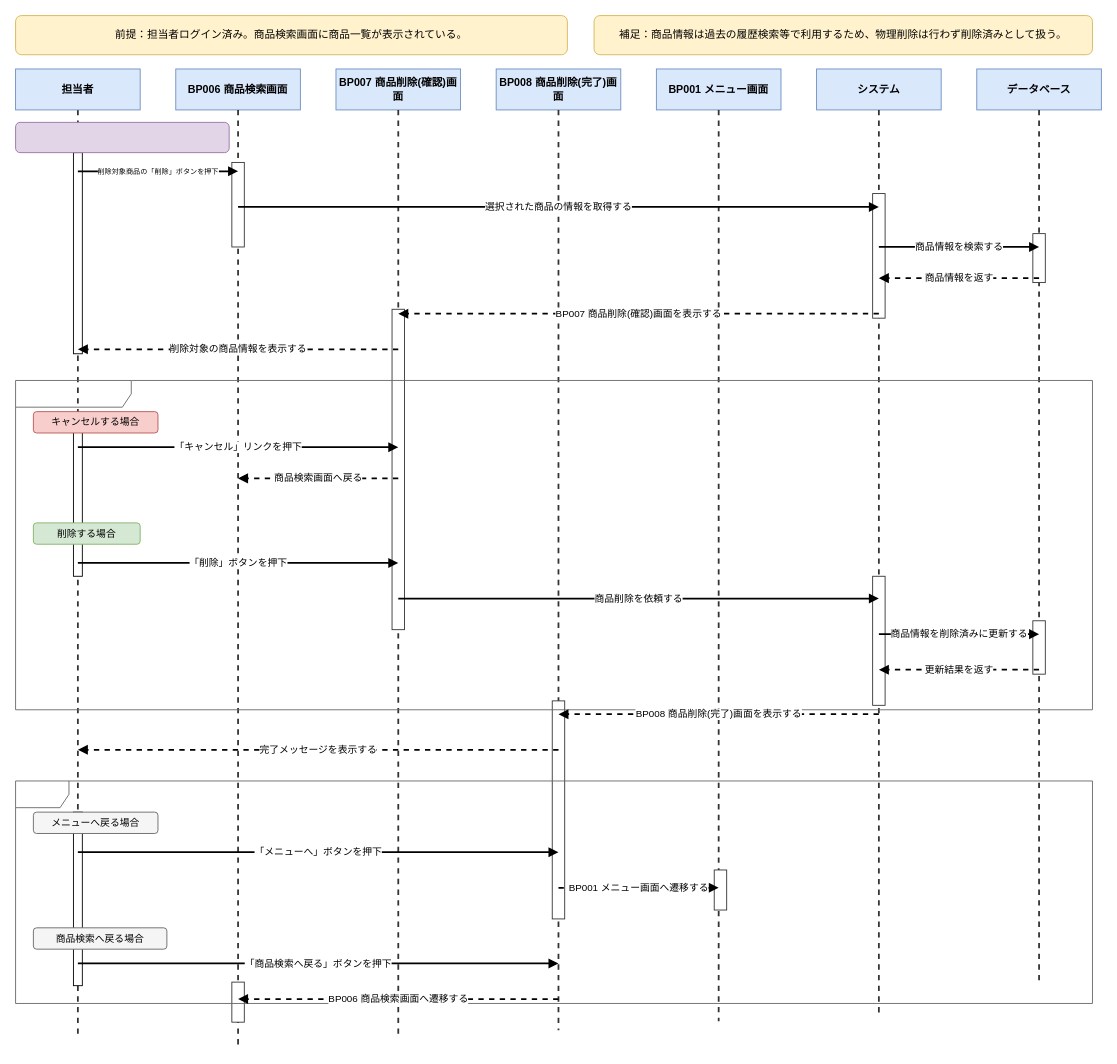
Image size: 1117x1064. Some labels were removed from this diagram. Each missing label, with the box of its shape:
alt 完了画面での操作: (15, 780, 1092, 1003)
alt 確認画面での操作: (15, 380, 1092, 710)
UC013 商品削除: (15, 121, 229, 153)
